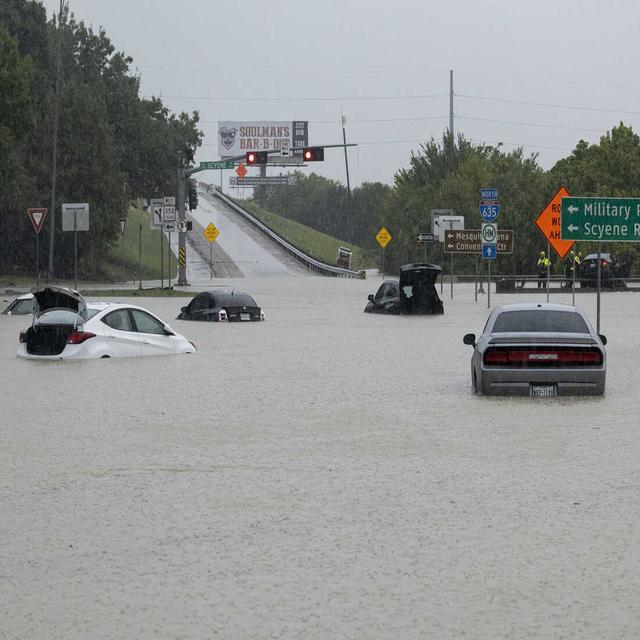Car-RiskLevel3: (453, 290, 612, 403), (16, 282, 205, 372), (355, 258, 452, 337), (172, 277, 273, 332)
